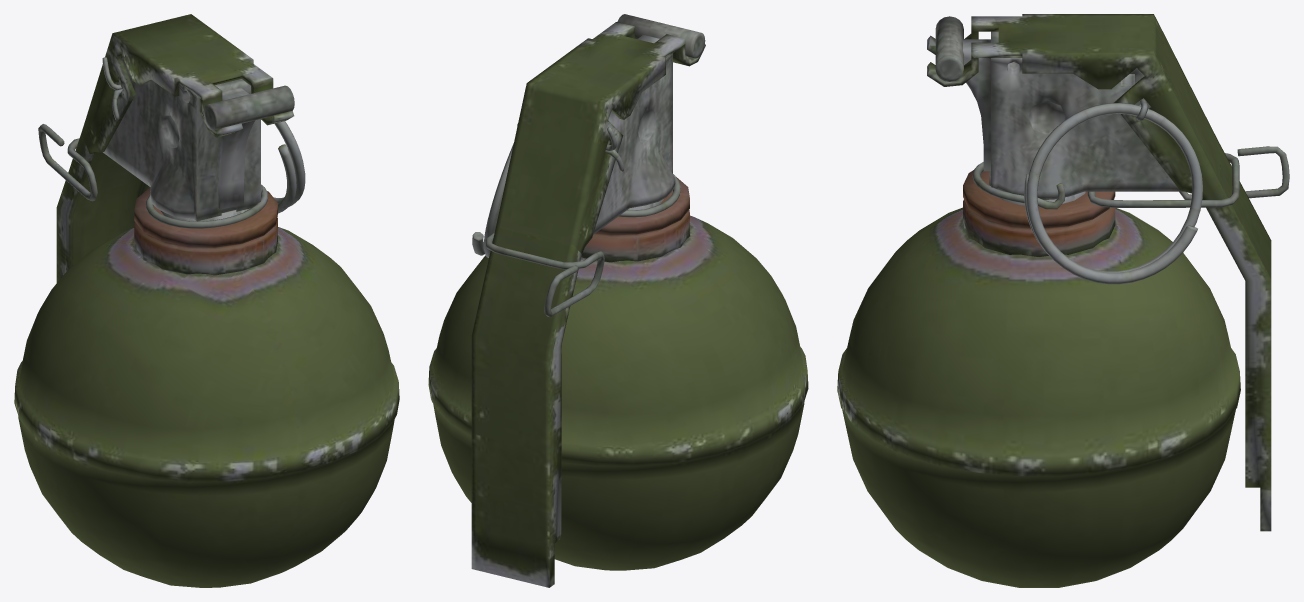
File: grenade.glb
3 views of the same model, side by side, from view 1: azimuth 30°, elevation 25°; view 2: azimuth 150°, elevation 25°; view 3: azimuth 270°, elevation 25° (orthographic). The views are drawn at different scales.
Visible parts, largest first — view 1: SM_M69_Frag_LOD0_Frag001_v1_0; view 2: SM_M69_Frag_LOD0_Frag001_v1_0; view 3: SM_M69_Frag_LOD0_Frag001_v1_0.
Part boxes in pixels (left/top/right/bottom): SM_M69_Frag_LOD0_Frag001_v1_0: left=14, top=14, right=399, bottom=587; SM_M69_Frag_LOD0_Frag001_v1_0: left=428, top=14, right=808, bottom=587; SM_M69_Frag_LOD0_Frag001_v1_0: left=837, top=14, right=1289, bottom=587.
Bounding box in the file's own units: 0.0684 × 0.1 × 0.0768.
Materials: 1 (1 with a texture image).
